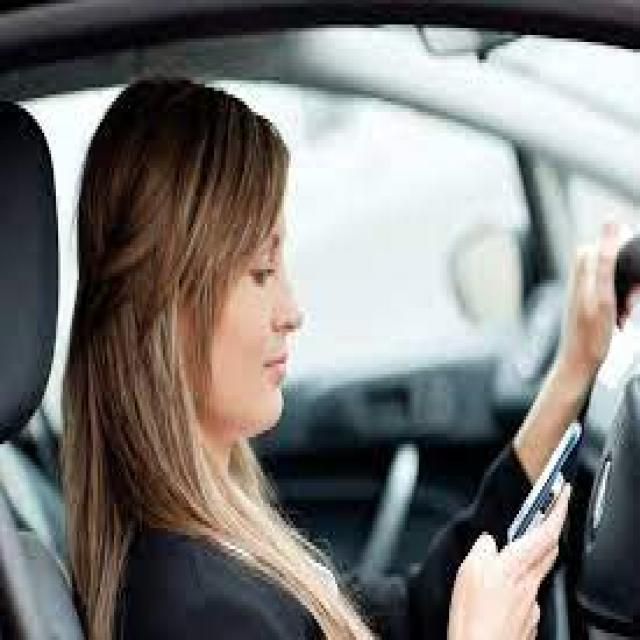Cellphone_texting: (447, 419, 589, 640)
